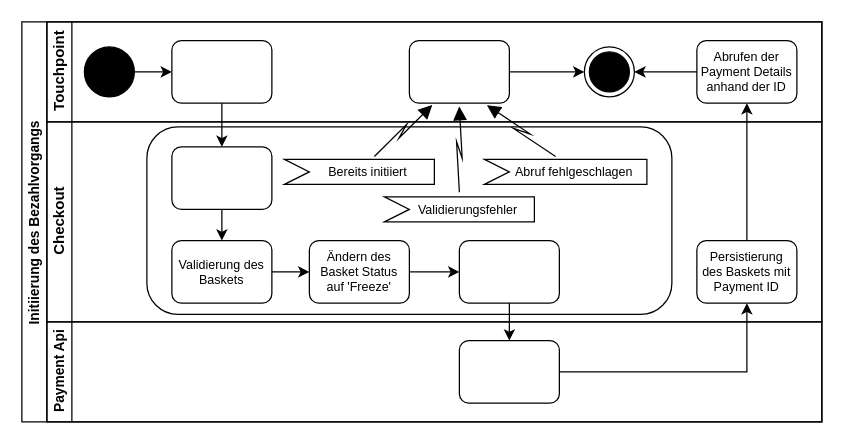
The diagram is 843 pixels wide and 443 high, and some of its shapes have lost their labels. Here are the shapes that lost their labels. From the top down, the centre of each, then its label:
(x=221, y=71): Bsp: Kunde beginnt Bezahl- prozess im Shop
(x=458, y=71): Verarbeitung des Fehlercodes
(x=221, y=177): Validierung des Bezahlstatus
(x=508, y=271): Erstellen des externen Payment Prozesses
(x=508, y=371): Anlegung des Prozesses und Rückgabe der Payment ID
